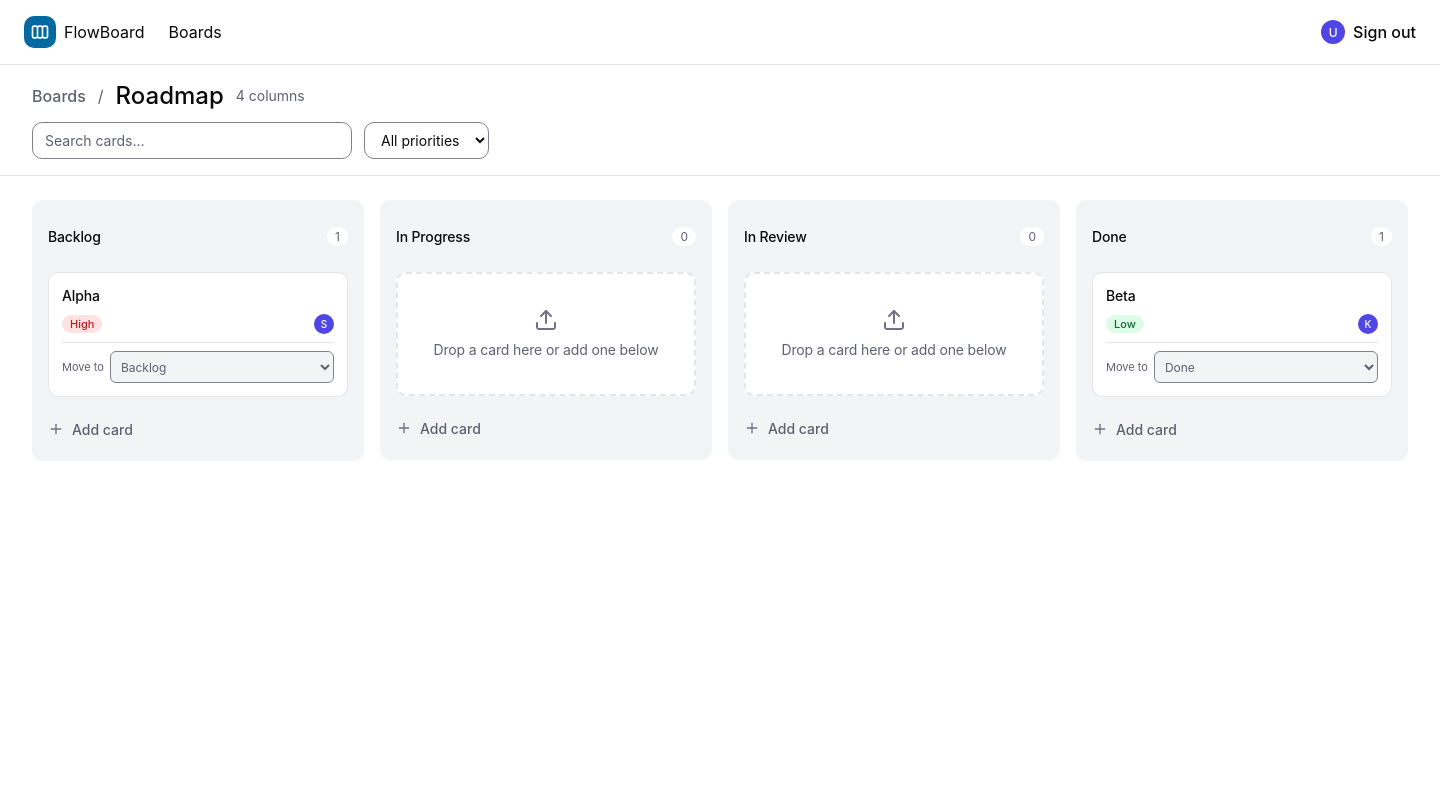
Test: BoardPage – editing cards › replaces the card in place by id
This screenshot has width=1440, height=810.
Click the button "Alpha High S" at [81, 296], box [62,286,334,334]
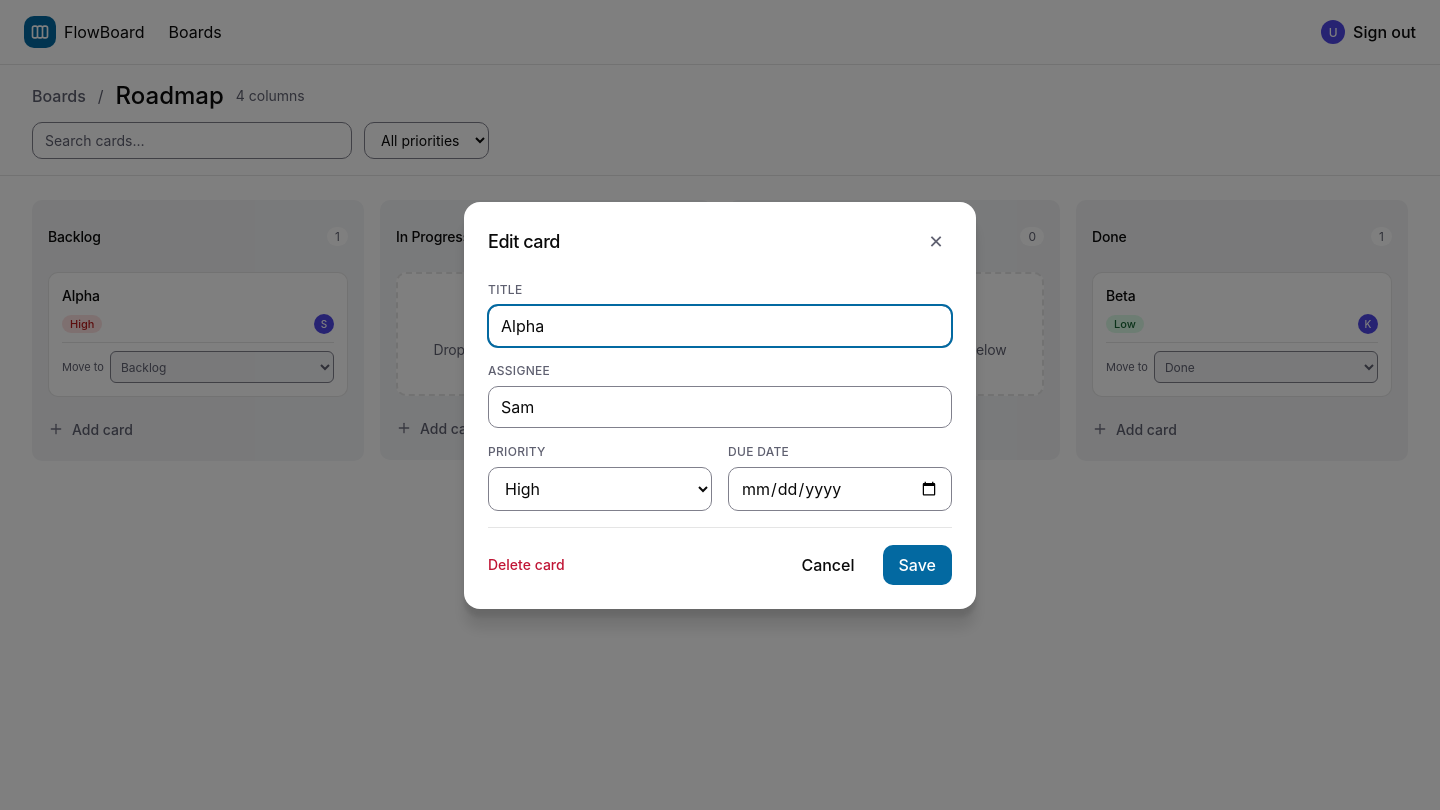
Expected: the dialog "Edit card" is shown, [464,202,976,608]
Replace the text in the field labelled "Title" with "Alpha v2" at [720, 326], box [488,304,952,346]
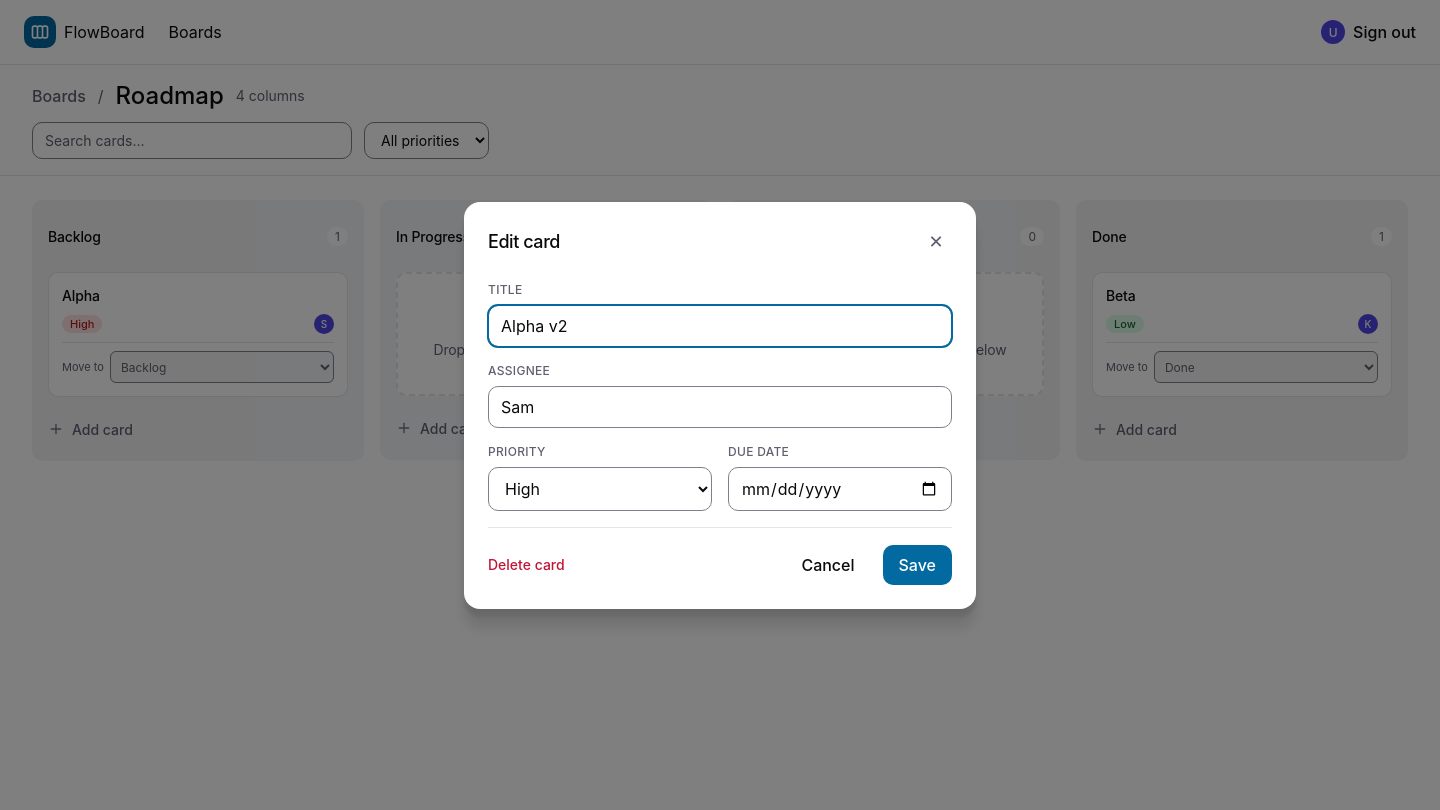
Click the button "Save" at [917, 564], box [882,544,952,584]
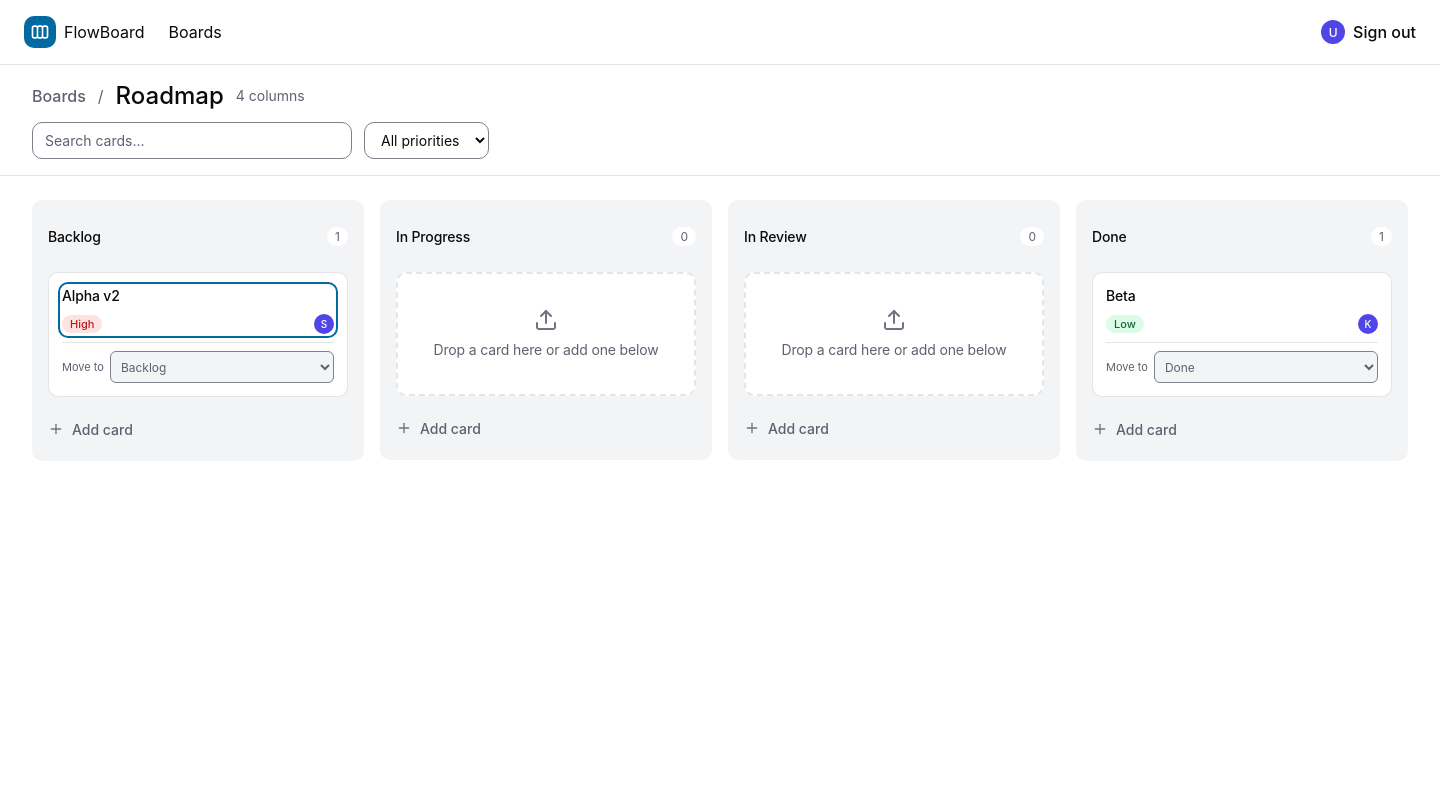
Expected: the text "Beta" is shown, [1106,287,1136,304]
Expected: the text "Alpha v2" is shown, [62,287,120,304]
